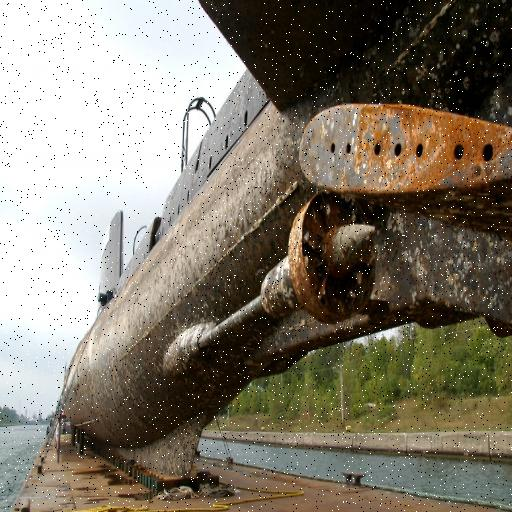submarine: (67, 1, 499, 445)
